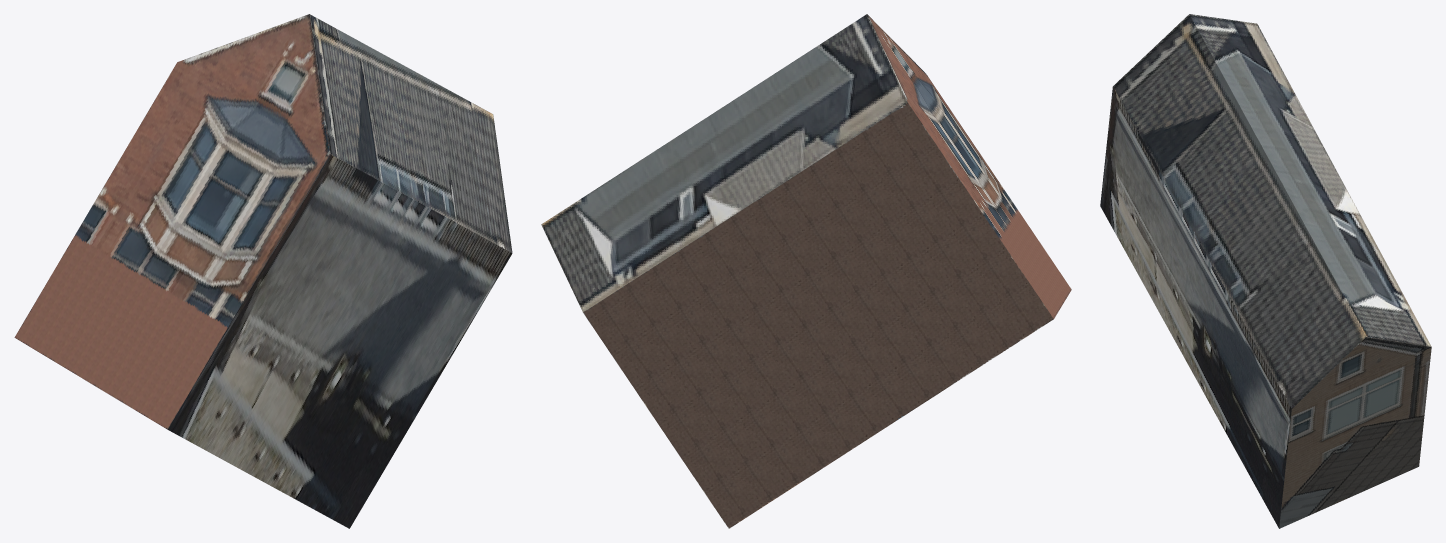
3 views of the same model, side by side, from view 1: azimuth 30°, elevation 25°; view 2: azimuth 150°, elevation 25°; view 3: azimuth 270°, elevation 25° (orthographic). The views are drawn at different scales.
Visible parts, largest first — view 1: BAG_0599100000656926 (×2); view 2: BAG_0599100000656926 (×2); view 3: BAG_0599100000656926 (×3).
Part boxes in pixels (x1,y1,x2,y2): BAG_0599100000656926 (×2): (14, 14, 512, 528); BAG_0599100000656926 (×2): (541, 14, 1071, 528); BAG_0599100000656926 (×3): (1100, 14, 1431, 528).
Bounding box in the file's own units: 15.02 × 15.01 × 9.46.
1 material, 1 textured.
